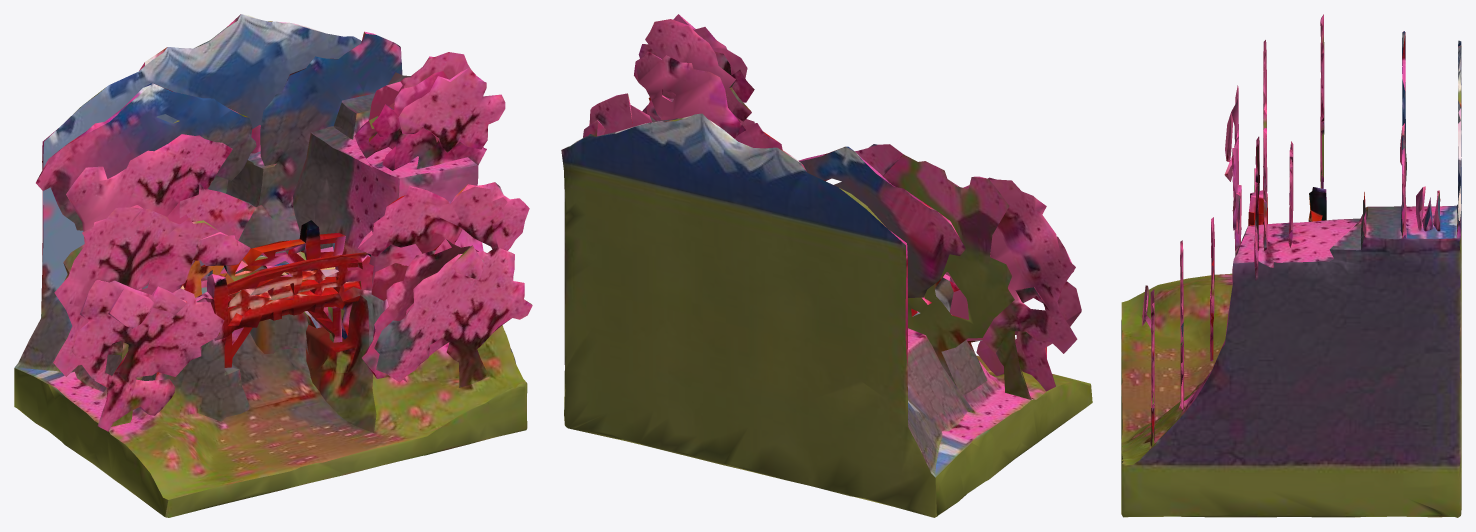
Rendered from takato-castle-park.glb.
The picture shows the model from 3 angles, left to right: view 1: azimuth 30°, elevation 25°; view 2: azimuth 150°, elevation 25°; view 3: azimuth 270°, elevation 25°; orthographic projection. The views are drawn at different scales.
Visible parts, largest first — view 1: logan-textured.obj; view 2: logan-textured.obj; view 3: logan-textured.obj.
Boxes of the visible parts, <box> form: logan-textured.obj: <box>14,14,532,517</box>; logan-textured.obj: <box>561,14,1092,517</box>; logan-textured.obj: <box>1121,14,1461,517</box>.
Bounding box in the file's own units: 1 × 0.7344 × 0.603.
Materials: 1 (1 with a texture image).
